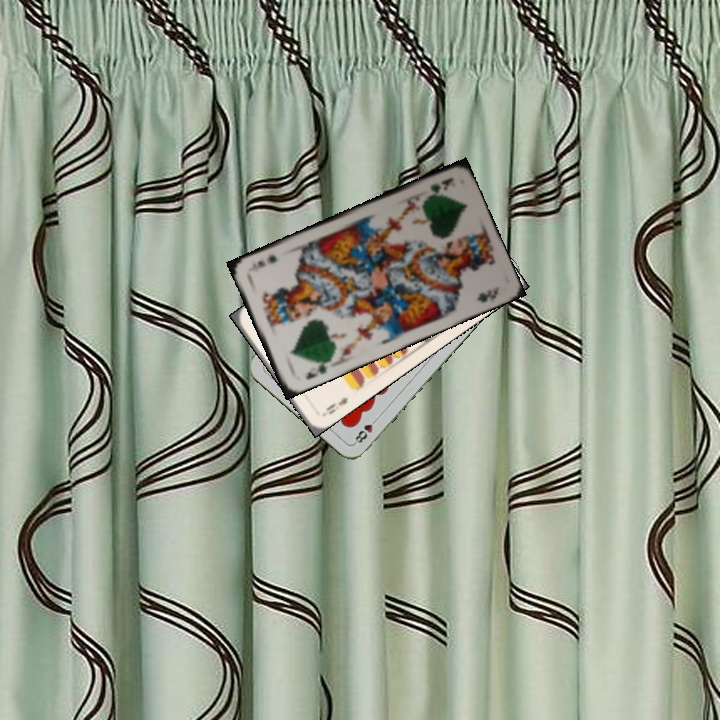E9: (318, 393, 351, 419)
GK: (421, 174, 456, 201), (302, 357, 331, 382)
H8: (351, 413, 381, 446)
